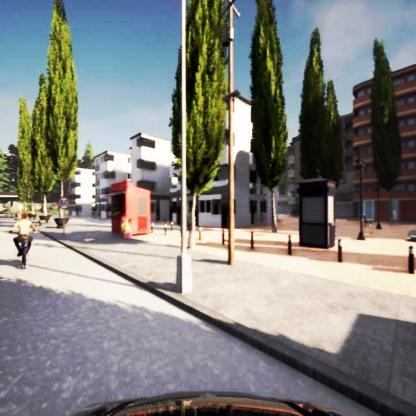bike: (10, 211, 38, 268)
